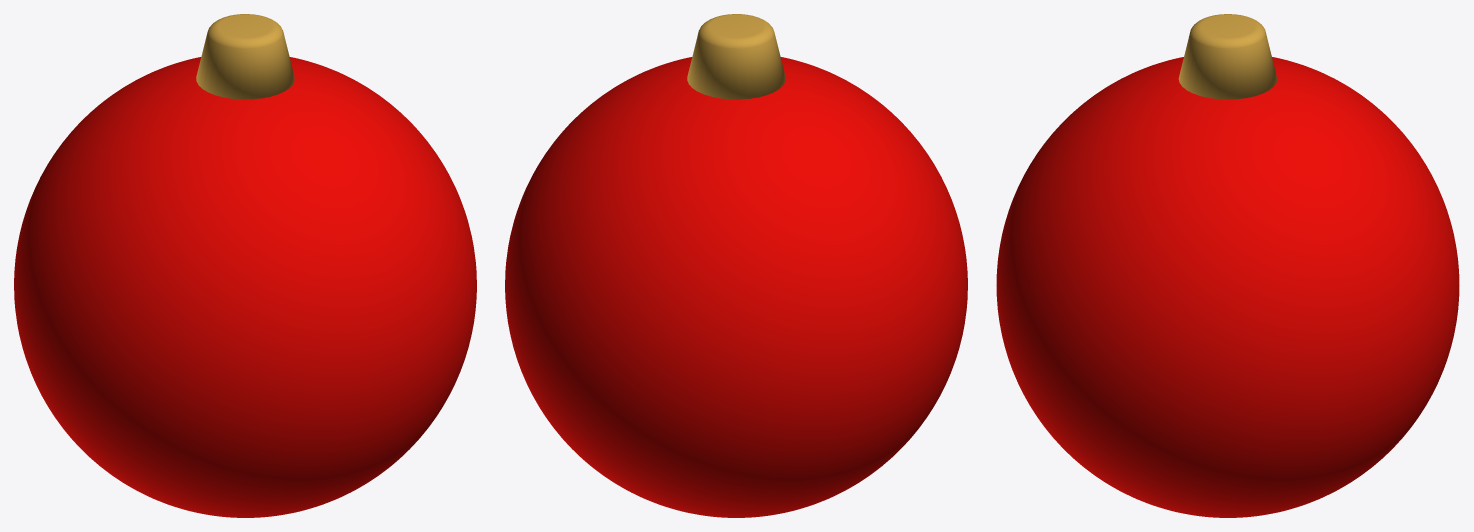
File: ornament_red_z.gltf
3 renders of one model, left to right at view 1: azimuth 30°, elevation 25°; view 2: azimuth 150°, elevation 25°; view 3: azimuth 270°, elevation 25°, orthographic.
Visible parts, largest first — view 1: ornament_red_z; view 2: ornament_red_z; view 3: ornament_red_z.
Boxes of the visible parts, x1=… form: ornament_red_z: x1=14, y1=14, x2=476, y2=517; ornament_red_z: x1=505, y1=14, x2=967, y2=517; ornament_red_z: x1=996, y1=14, x2=1459, y2=517.
Size of the model in its own units: 1.98 by 2.22 by 1.98.
